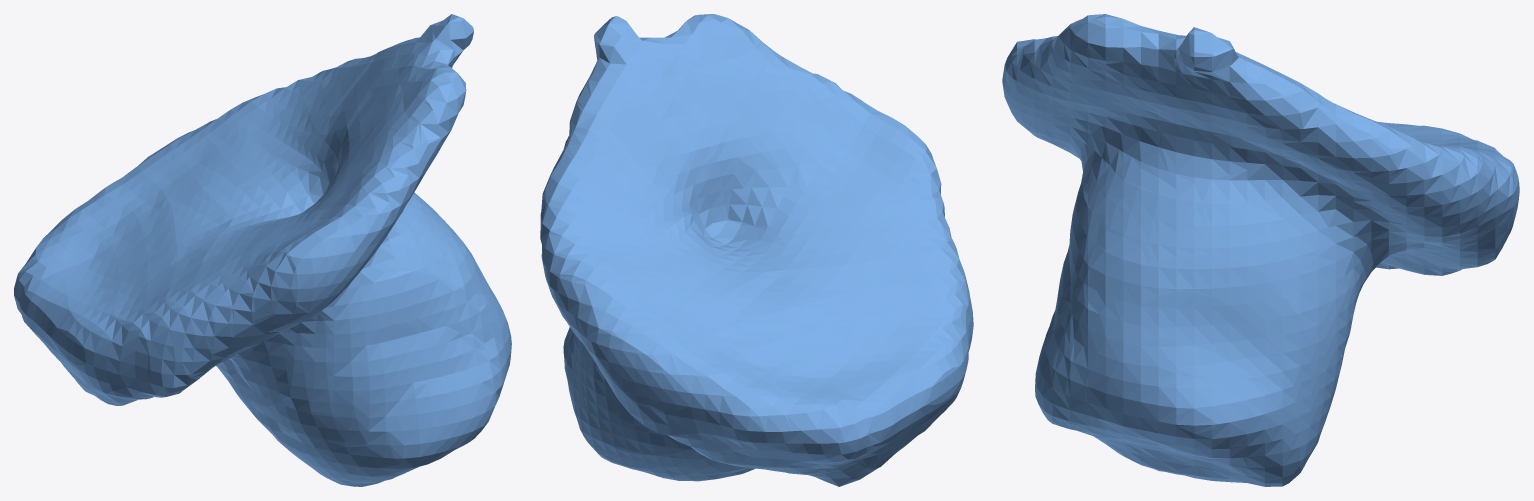
File: water_0016.glb
The picture shows the model from 3 angles, left to right: view 1: azimuth 30°, elevation 25°; view 2: azimuth 150°, elevation 25°; view 3: azimuth 270°, elevation 25°; orthographic projection. The views are drawn at different scales.
Parts seen in each view (by area): view 1: Water_0016; view 2: Water_0016; view 3: Water_0016.
Part boxes in pixels (<box>): Water_0016: <box>14,14,511,486</box>; Water_0016: <box>540,14,973,486</box>; Water_0016: <box>1002,14,1519,486</box>.
Bounding box in the file's own units: 1.77 × 1.8 × 1.7.
